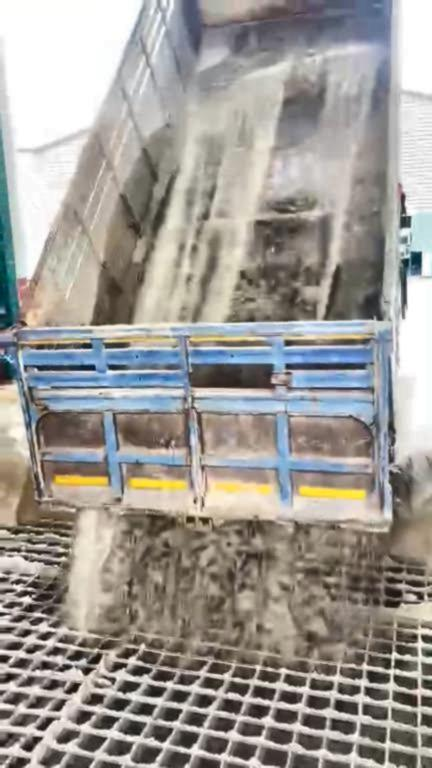sand: (65, 468, 432, 660), (139, 47, 387, 322), (1, 446, 40, 526), (399, 586, 432, 618)
